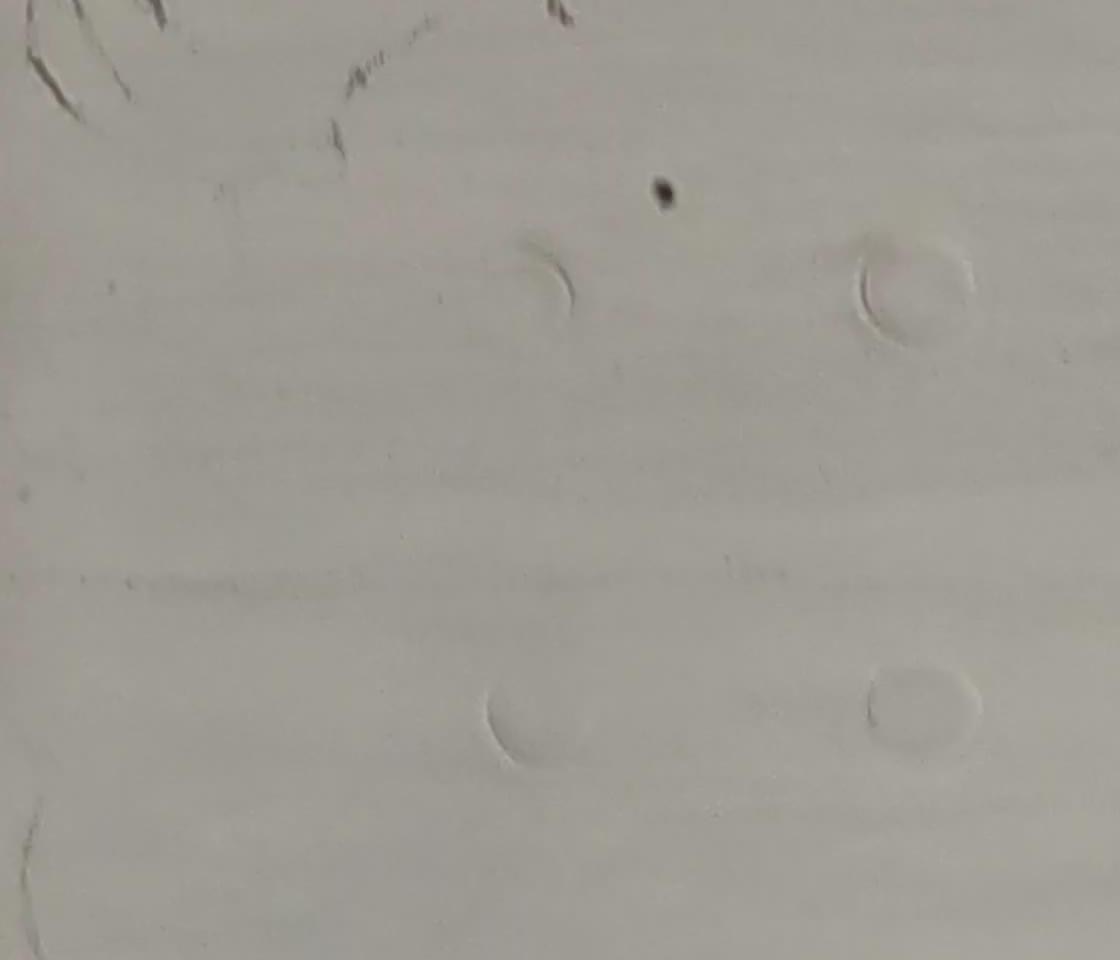scratch: (11, 44, 88, 128)
